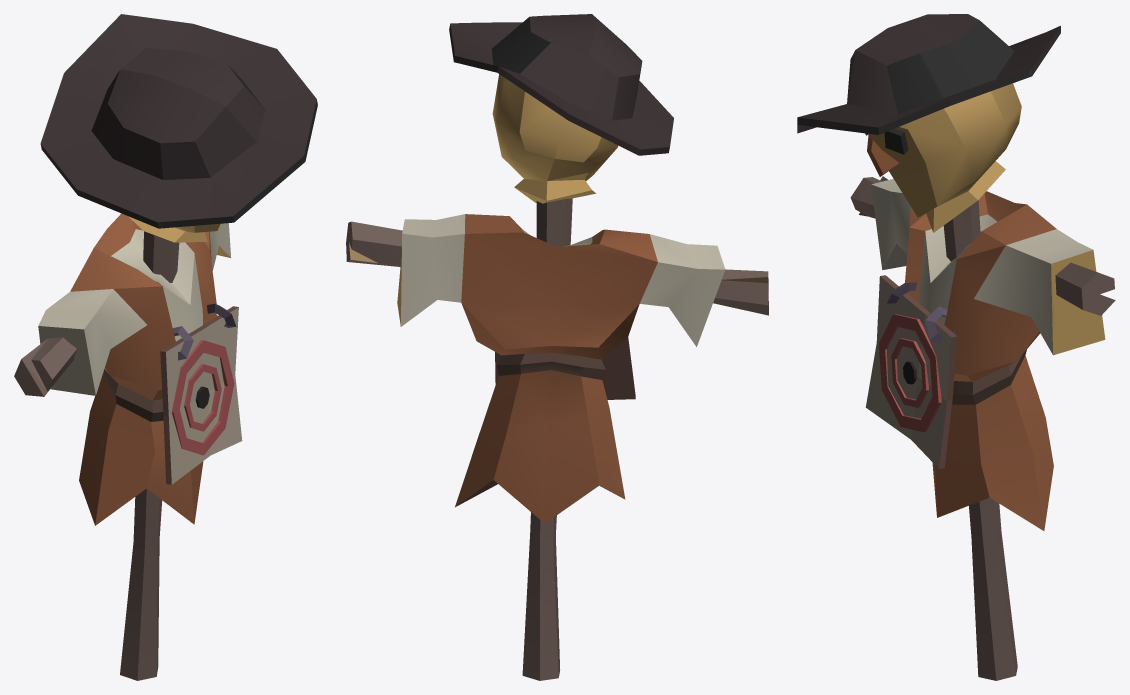
The model's file is scarecrow.glb.
3 views of the same model, side by side, from view 1: azimuth 30°, elevation 25°; view 2: azimuth 150°, elevation 25°; view 3: azimuth 270°, elevation 25° (orthographic). The views are drawn at different scales.
Parts seen in each view (by area): view 1: scarecrow; view 2: scarecrow; view 3: scarecrow.
Part boxes in pixels (bbox=[...]): scarecrow: bbox=[14, 14, 317, 680]; scarecrow: bbox=[346, 14, 768, 680]; scarecrow: bbox=[797, 14, 1115, 680].
Size of the model in its own units: 6.69 by 12.14 by 5.36.
Materials: 3 (2 with a texture image).
